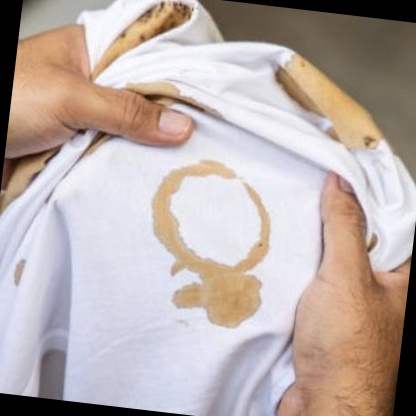coffee: (187, 260, 265, 330), (149, 174, 179, 239), (242, 234, 271, 269), (180, 163, 225, 178), (172, 242, 194, 269)
